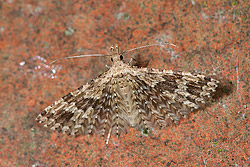Alucitidae: (32, 34, 226, 144)
moth: (30, 32, 224, 142)
